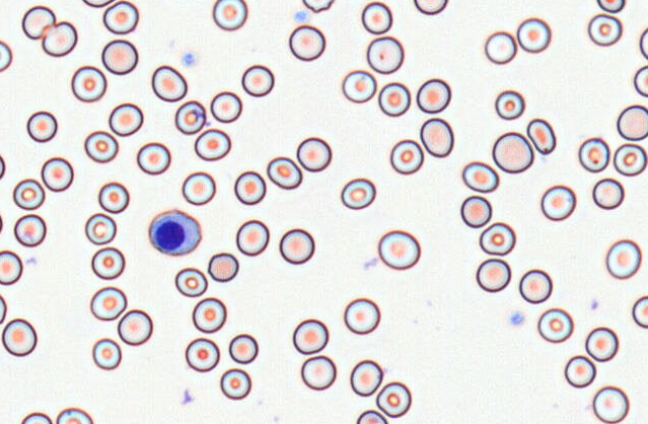LYM: (147, 209, 203, 257)
PLT: (508, 310, 526, 326), (293, 9, 310, 24), (181, 53, 197, 68)
RBC: (377, 229, 420, 270), (492, 131, 533, 173), (366, 35, 404, 74), (605, 239, 641, 279), (592, 385, 629, 423), (343, 297, 380, 334), (288, 24, 325, 61), (1, 318, 37, 356), (419, 117, 453, 157), (151, 65, 187, 102), (101, 39, 138, 75), (375, 381, 411, 418), (540, 184, 576, 221), (41, 20, 77, 56), (292, 318, 328, 354), (537, 307, 573, 343), (71, 65, 106, 102), (89, 286, 127, 320), (300, 355, 336, 390), (117, 309, 152, 345), (191, 297, 226, 333), (279, 228, 314, 264), (516, 17, 551, 53), (296, 136, 331, 172), (349, 359, 383, 396), (235, 219, 269, 256), (102, 0, 138, 34), (479, 221, 515, 255), (475, 258, 511, 292), (194, 128, 231, 161), (185, 337, 219, 372), (518, 268, 552, 303), (341, 69, 376, 103), (416, 78, 450, 113), (108, 102, 143, 136), (389, 139, 423, 174), (40, 156, 73, 192), (266, 156, 302, 189), (461, 161, 499, 192), (181, 171, 215, 205), (587, 13, 622, 46), (233, 170, 266, 205), (585, 326, 618, 361), (578, 136, 610, 172), (84, 130, 118, 163), (91, 246, 125, 279), (484, 30, 517, 64), (136, 142, 171, 174), (340, 177, 375, 209), (378, 81, 410, 116), (616, 104, 647, 140), (613, 143, 646, 176), (13, 213, 46, 246), (241, 64, 274, 97), (174, 100, 206, 134), (84, 212, 116, 245), (564, 355, 596, 388), (12, 178, 45, 210), (212, 0, 247, 30), (219, 368, 251, 400), (592, 177, 624, 209), (210, 91, 242, 123), (361, 1, 392, 34), (98, 181, 129, 213), (460, 195, 491, 227), (26, 110, 57, 142), (174, 267, 207, 297), (91, 337, 121, 370), (207, 252, 238, 282), (228, 333, 258, 364), (494, 89, 524, 120), (0, 249, 22, 285), (55, 407, 93, 423), (413, 0, 448, 15), (632, 295, 647, 328), (633, 65, 647, 97), (356, 409, 387, 423), (302, 0, 334, 13), (0, 39, 12, 72), (20, 411, 52, 423), (596, 0, 625, 13), (639, 27, 648, 59), (81, 0, 115, 7), (0, 293, 7, 324), (0, 153, 5, 179), (0, 211, 3, 234), (164, 0, 194, 2)
Schistocyte: (20, 6, 58, 40), (526, 118, 556, 155)
